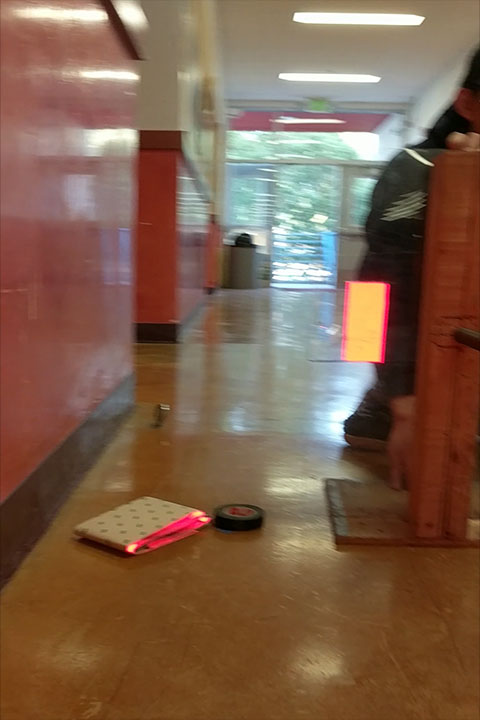gear: (343, 281, 386, 361)
